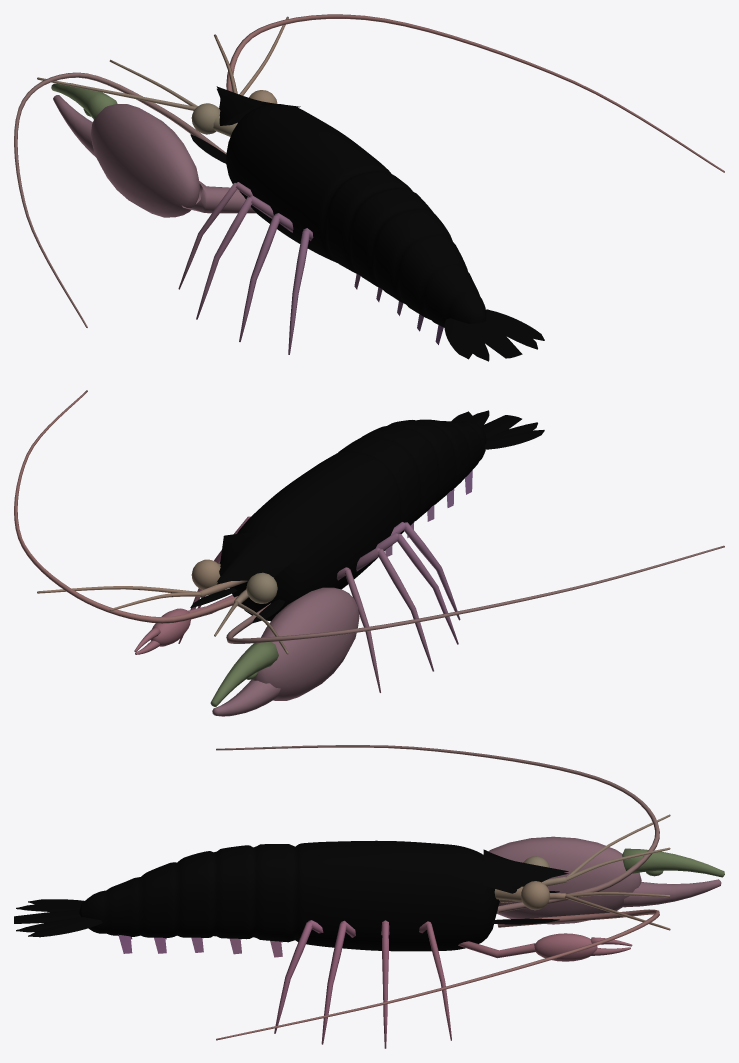
The model's file is shrimp_pistol.glb.
3 renders of one model, top to bottom at view 1: azimuth 30°, elevation 25°; view 2: azimuth 150°, elevation 25°; view 3: azimuth 270°, elevation 25°, orthographic. The views are drawn at different scales.
Visible parts, largest first — view 1: shrimp_pistol; view 2: shrimp_pistol; view 3: shrimp_pistol.
Boxes of the visible parts, x1,y1,x2,y2 form: shrimp_pistol: [14, 14, 724, 361]; shrimp_pistol: [14, 390, 724, 716]; shrimp_pistol: [14, 745, 724, 1048].
Bounding box in the file's own units: 0.0561 × 0.0134 × 0.058.
